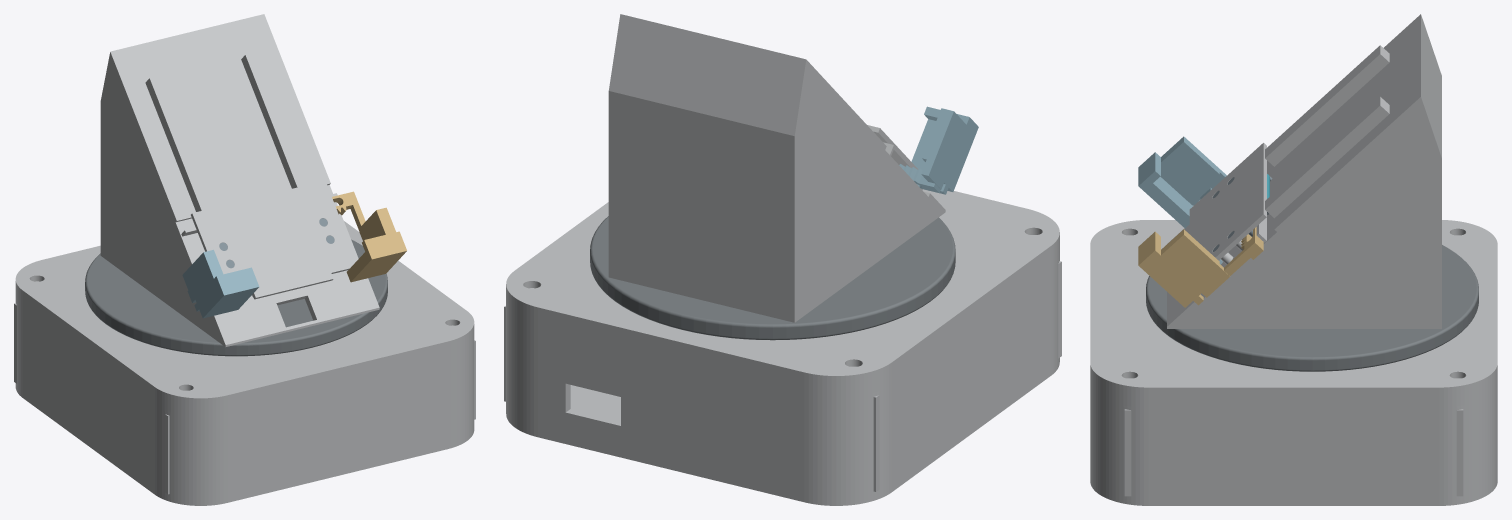
File: HachimoDock-R03.glb
3 renders of one model, left to right at view 1: azimuth 30°, elevation 25°; view 2: azimuth 150°, elevation 25°; view 3: azimuth 270°, elevation 25°, orthographic. The views are drawn at different scales.
Visible parts, largest first — view 1: 04_Wedge_45deg, 01_Base, 02_Base_Lid, 10_Clamp_Cover, 03_Rotor, 05_Jaw_Left, 06_Jaw_Right; view 2: 04_Wedge_45deg, 01_Base, 02_Base_Lid, 03_Rotor, 05_Jaw_Left; view 3: 04_Wedge_45deg, 01_Base, 02_Base_Lid, 03_Rotor, 10_Clamp_Cover, 06_Jaw_Right, 05_Jaw_Left.
Part boxes in pixels (<box>): 04_Wedge_45deg: <box>100,14,379,346</box>; 01_Base: <box>14,299,475,505</box>; 02_Base_Lid: <box>15,221,474,416</box>; 10_Clamp_Cover: <box>191,180,356,299</box>; 03_Rotor: <box>85,239,387,356</box>; 05_Jaw_Left: <box>182,249,259,318</box>; 06_Jaw_Right: <box>332,191,406,282</box>; 04_Wedge_45deg: <box>608,14,945,322</box>; 01_Base: <box>504,254,1061,505</box>; 02_Base_Lid: <box>506,189,1059,397</box>; 03_Rotor: <box>590,216,955,340</box>; 05_Jaw_Left: <box>899,106,978,194</box>; 04_Wedge_45deg: <box>1167,14,1441,328</box>; 01_Base: <box>1090,385,1497,505</box>; 02_Base_Lid: <box>1090,220,1497,407</box>; 03_Rotor: <box>1146,245,1478,371</box>; 10_Clamp_Cover: <box>1184,143,1266,264</box>; 06_Jaw_Right: <box>1138,227,1263,307</box>; 05_Jaw_Left: <box>1138,136,1226,264</box>.
Size of the model in its own units: 0.15 by 0.153 by 0.154.
